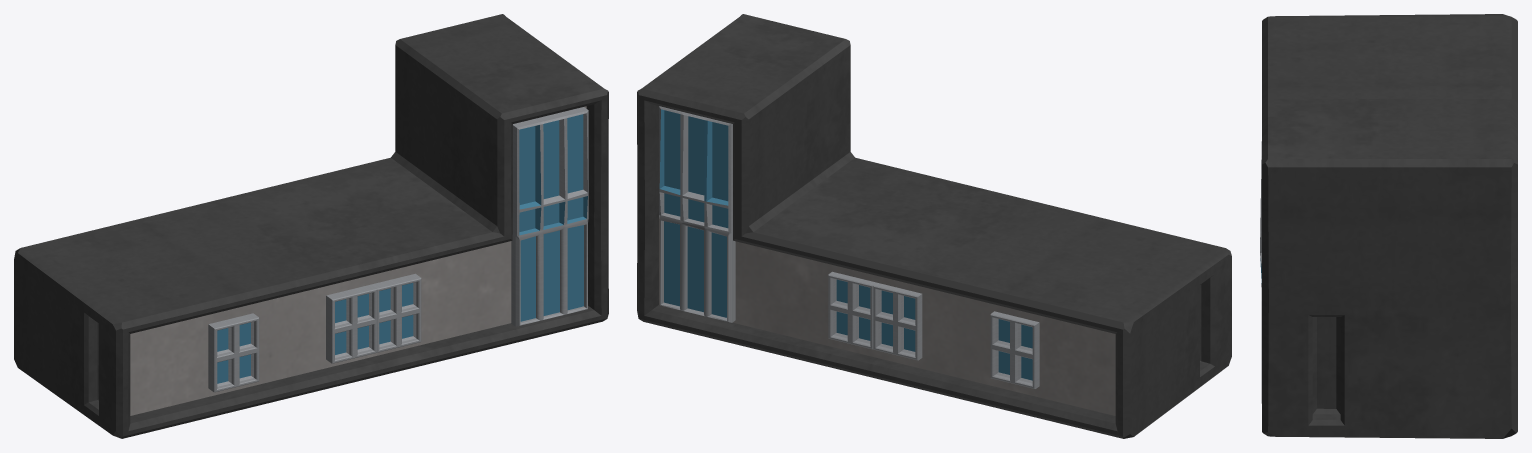
File: Lbuilding.fbx
The picture shows the model from 3 angles, left to right: view 1: azimuth 30°, elevation 25°; view 2: azimuth 150°, elevation 25°; view 3: azimuth 270°, elevation 25°; orthographic projection. The views are drawn at different scales.
Parts seen in each view (by area): view 1: pCube4, pCube25, pCube27, pCube26, pCube28; view 2: pCube4, pCube5, pCube8, pCube7, pCube6; view 3: pCube4, pCube25.
Part boxes in pixels (left/top/right/bottom): pCube4: left=14, top=14, right=608, bottom=438; pCube25: left=511, top=107, right=588, bottom=326; pCube27: left=208, top=313, right=259, bottom=392; pCube26: left=326, top=284, right=376, bottom=363; pCube28: left=371, top=273, right=421, bottom=352; pCube4: left=637, top=14, right=1231, bottom=438; pCube5: left=659, top=106, right=735, bottom=322; pCube8: left=990, top=311, right=1039, bottom=388; pCube7: left=873, top=282, right=922, bottom=360; pCube6: left=828, top=271, right=876, bottom=349; pCube4: left=1262, top=14, right=1517, bottom=438; pCube25: left=1260, top=141, right=1261, bottom=403.
Size of the model in its own units: 10.76 by 4.85 by 4.07.
